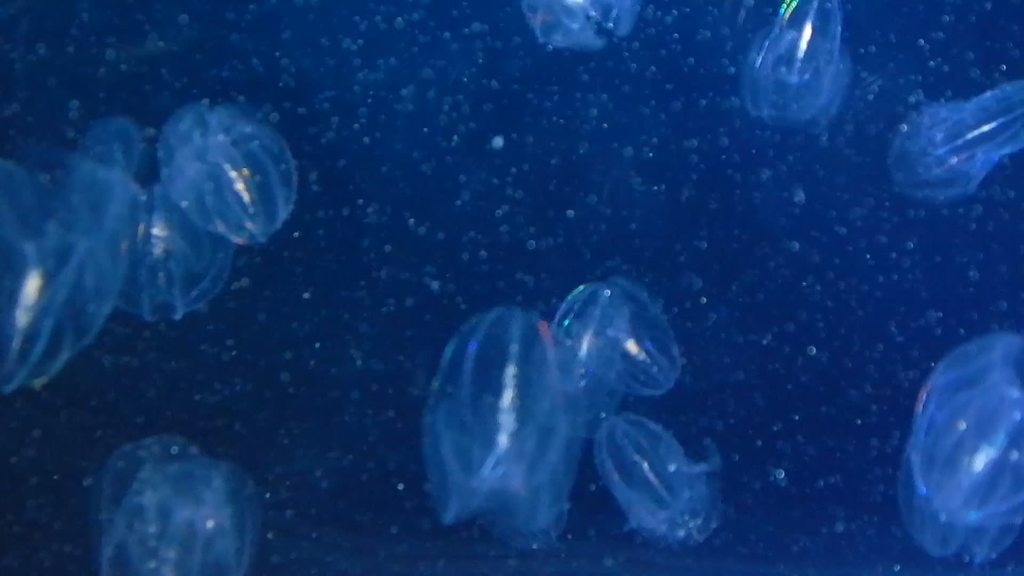Jellyfish: (0, 113, 225, 393), (430, 305, 579, 523), (135, 88, 295, 288), (899, 330, 1023, 570), (92, 437, 247, 575), (888, 78, 1023, 200), (591, 418, 713, 539), (741, 0, 849, 127), (549, 280, 629, 426), (593, 279, 682, 392), (516, 0, 640, 48)
